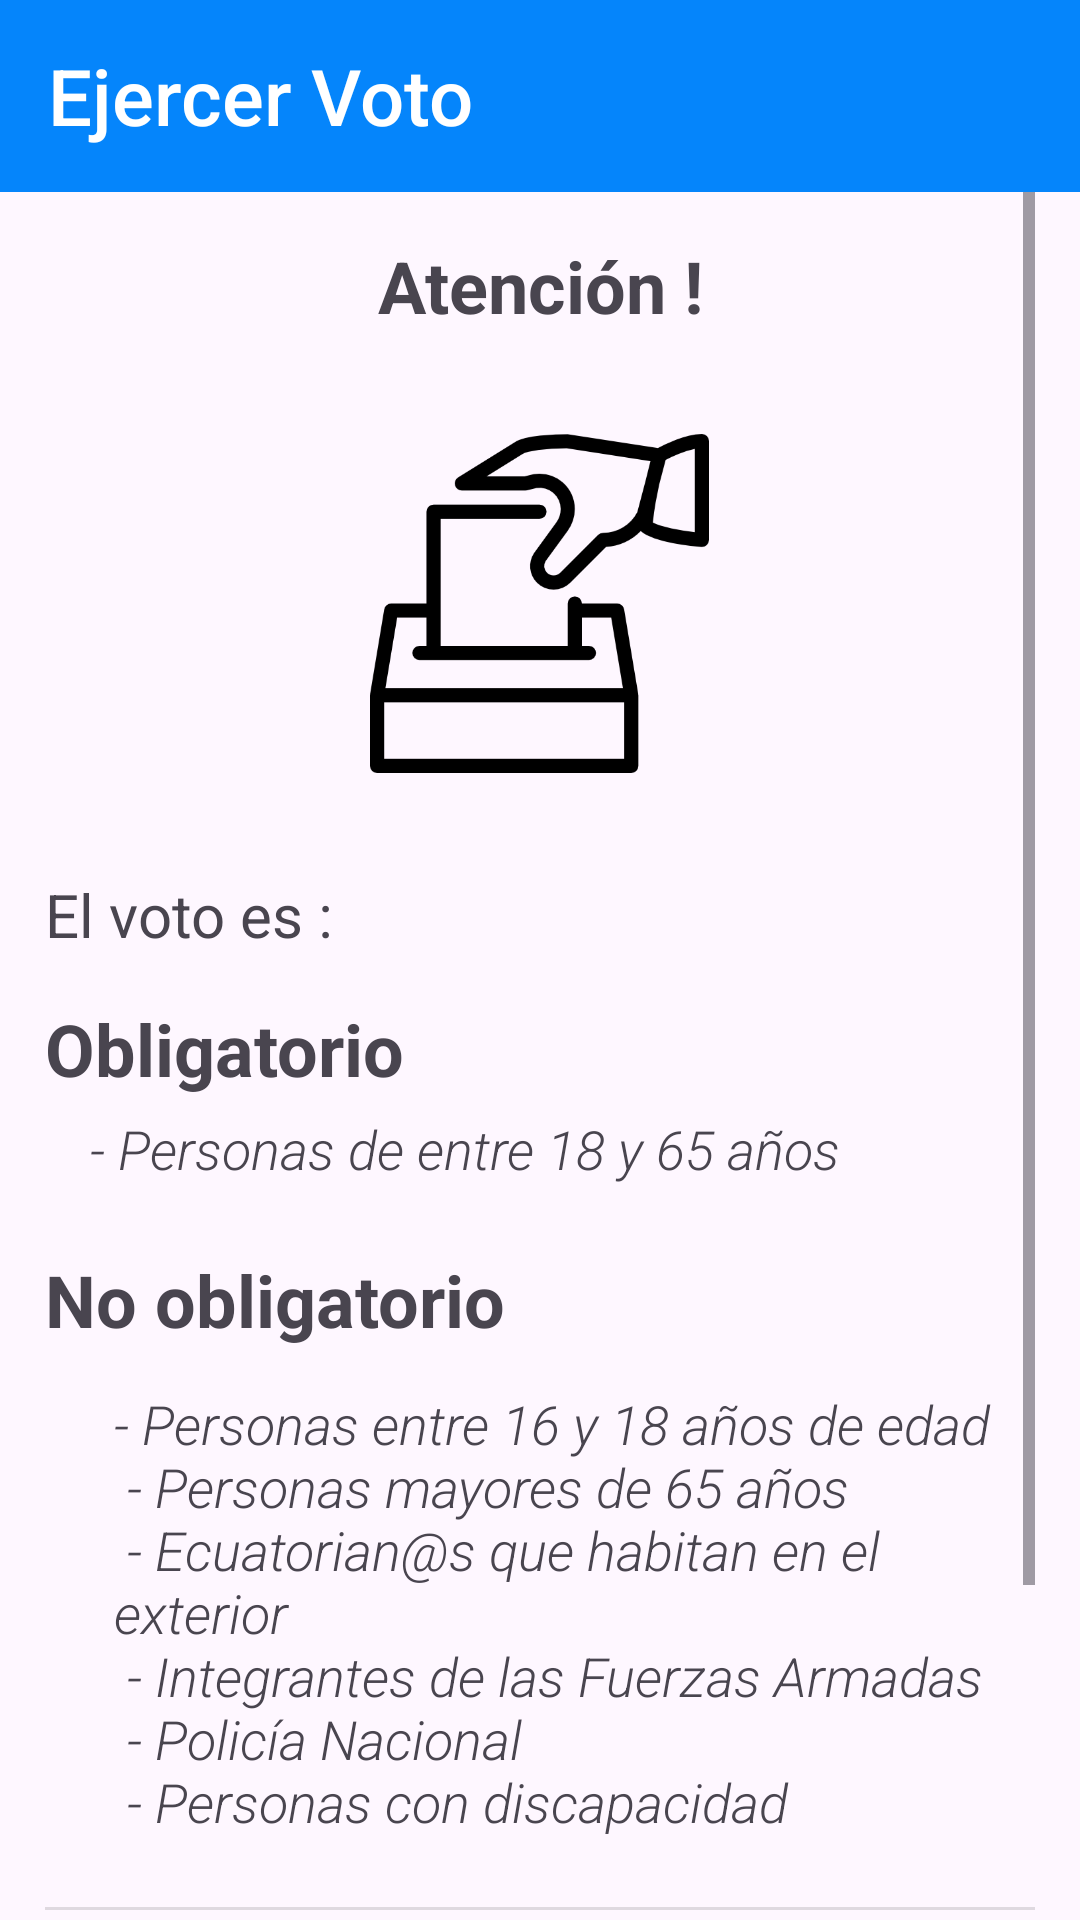

Icons on this 1080w x 1920h Android screen, each with the point to tap as point (x, y):
eleccionesimg: point (539, 603)
